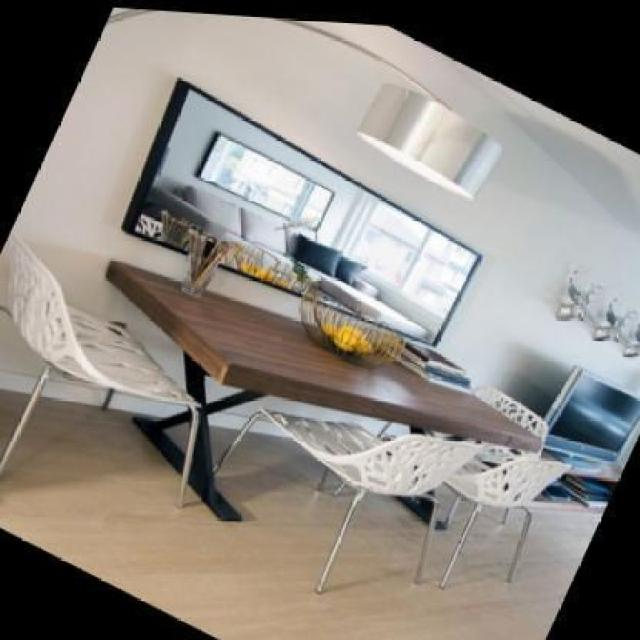tables: (103, 257, 548, 525)
